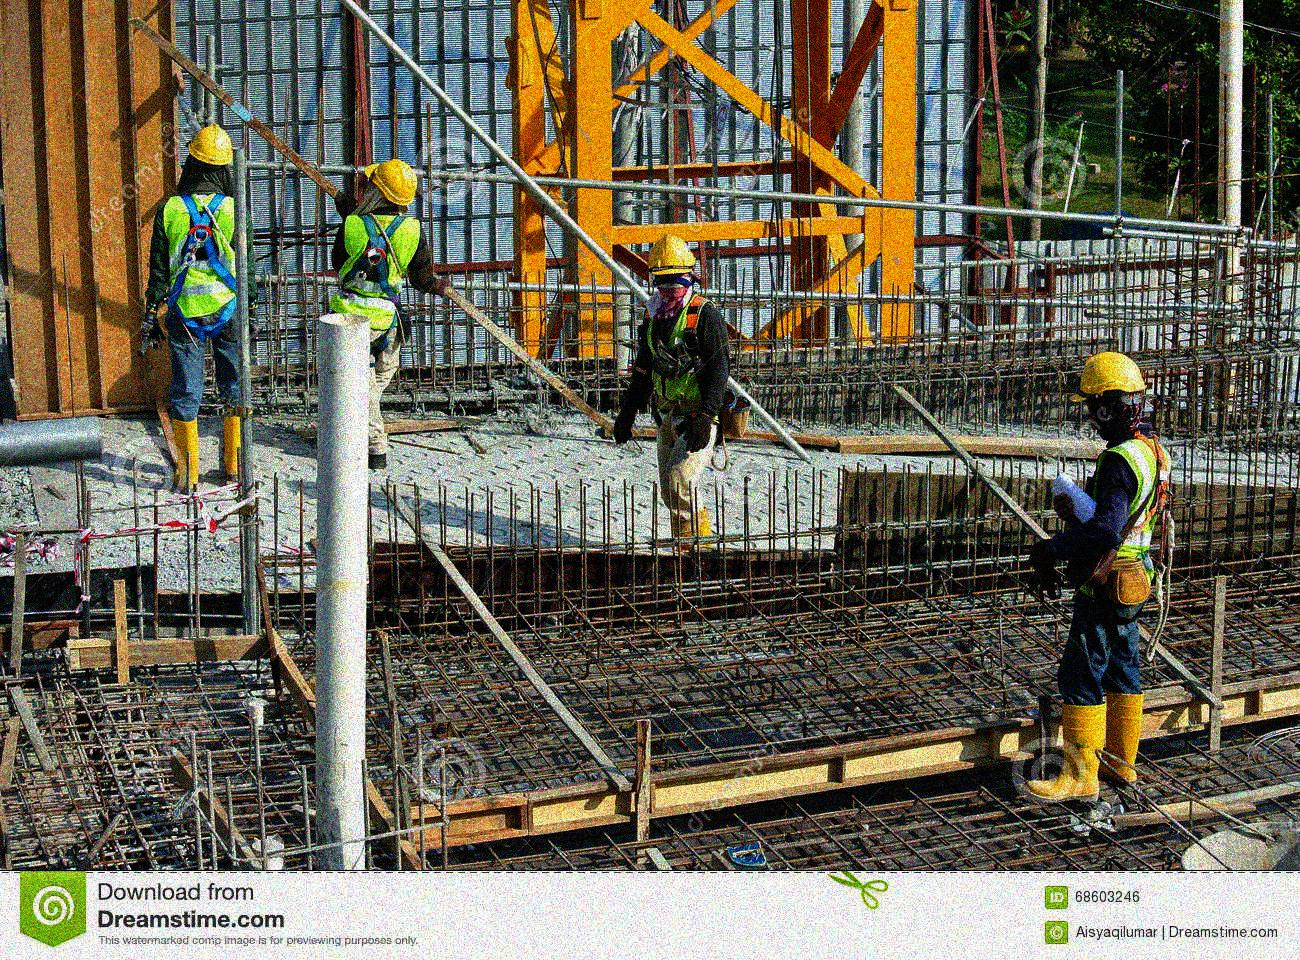helmet: (1076, 351, 1149, 441), (643, 232, 705, 298), (361, 159, 420, 215), (186, 121, 239, 182)
